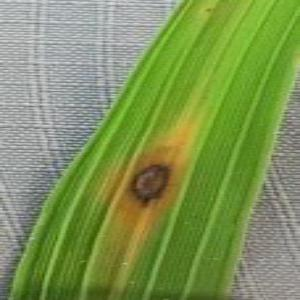Brown_Spot: (118, 155, 183, 216), (202, 4, 217, 15)
